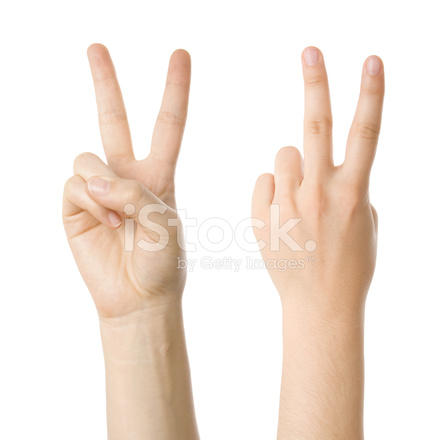v_s: (55, 38, 195, 316), (245, 41, 387, 306)
